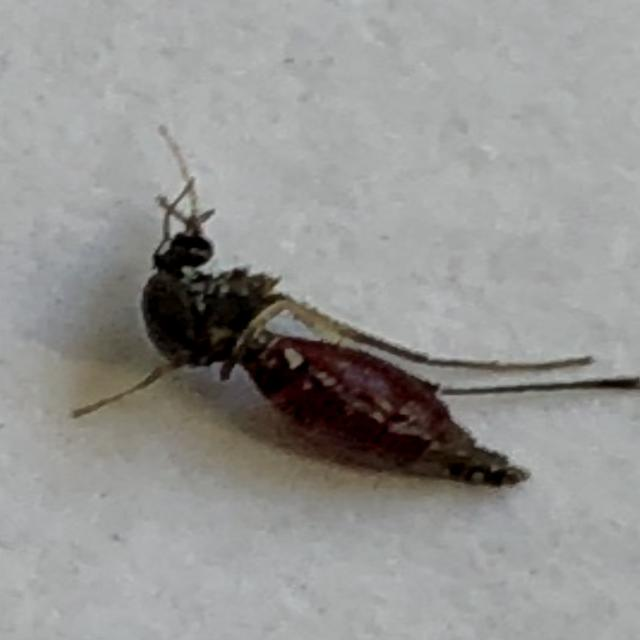albopictus: (77, 109, 594, 506)
